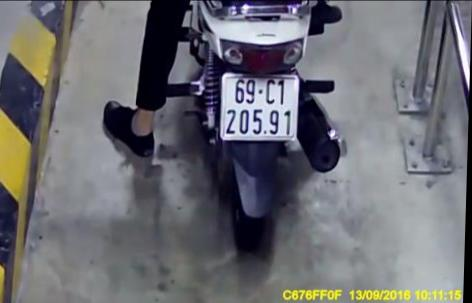LP: (219, 70, 301, 140)
